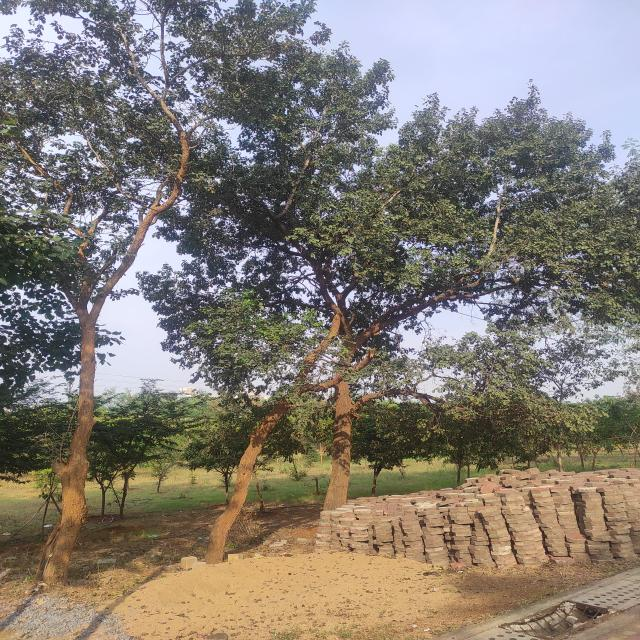Devakanchan tree: (1, 1, 640, 400)
